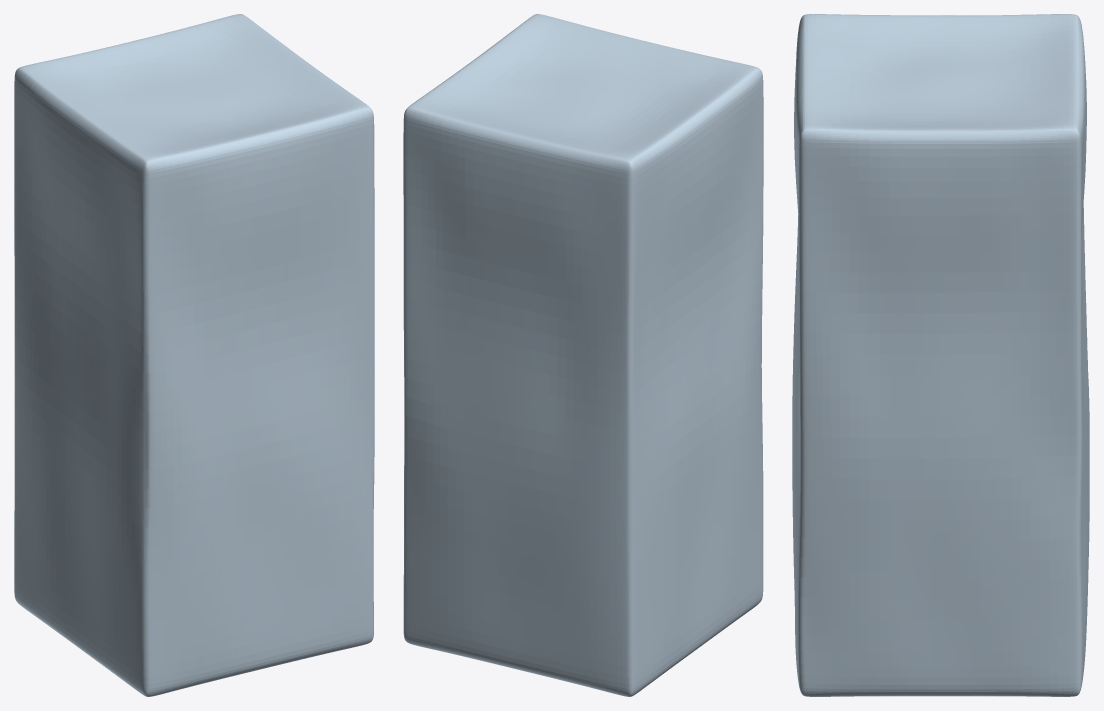
File: jelly1.fbx
3 views of the same model, side by side, from view 1: azimuth 30°, elevation 25°; view 2: azimuth 150°, elevation 25°; view 3: azimuth 270°, elevation 25° (orthographic). The views are drawn at different scales.
Parts seen in each view (by area): view 1: Cube; view 2: Cube; view 3: Cube.
Part boxes in pixels (<box>): Cube: <box>14,14,374,696</box>; Cube: <box>403,14,763,696</box>; Cube: <box>792,14,1089,696</box>.
Size of the model in its own units: 41.04 by 87.05 by 41.24.
